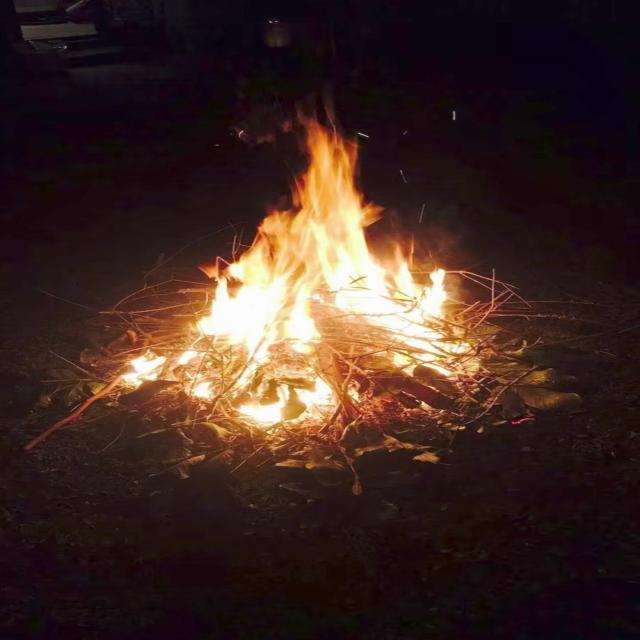fire: (197, 119, 447, 348), (242, 384, 334, 428), (378, 340, 471, 378), (118, 351, 195, 388)
